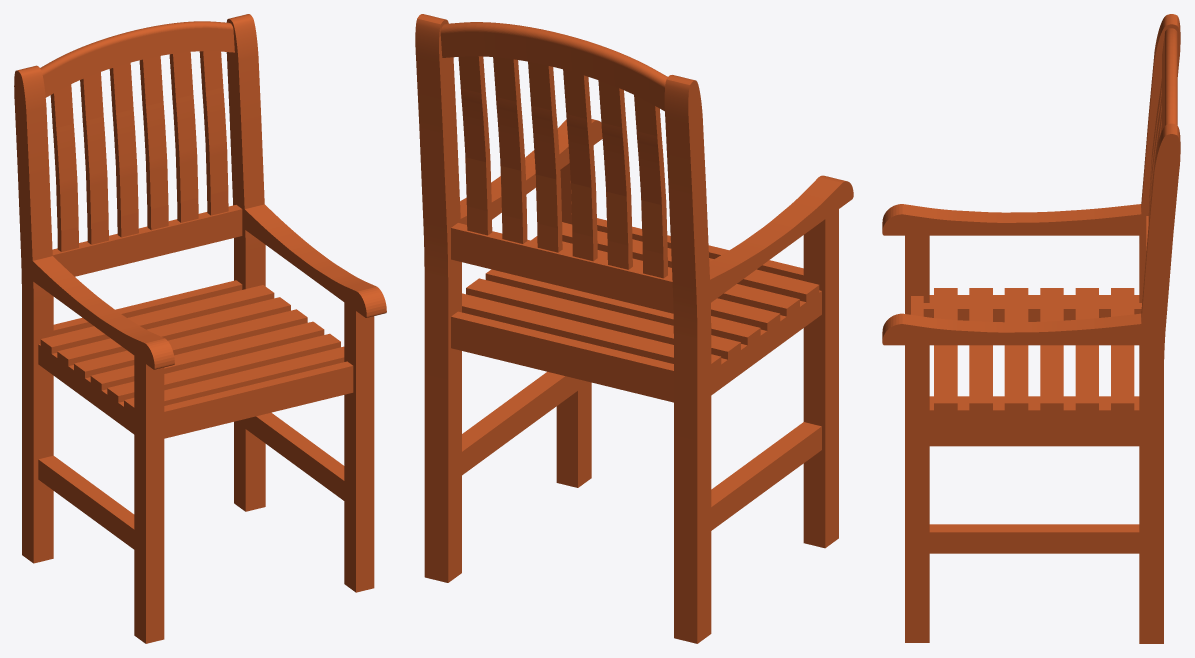
File: chair_low_poly.glb
3 renders of one model, left to right at view 1: azimuth 30°, elevation 25°; view 2: azimuth 150°, elevation 25°; view 3: azimuth 270°, elevation 25°, orthographic. The views are drawn at different scales.
Parts seen in each view (by area): view 1: chair; view 2: chair; view 3: chair.
Boxes of the visible parts, left/top/right/bottom form: chair: left=14, top=14, right=386, bottom=643; chair: left=415, top=14, right=853, bottom=643; chair: left=882, top=14, right=1180, bottom=643.
Bounding box in the file's own units: 64.43 × 131 × 67.61.
